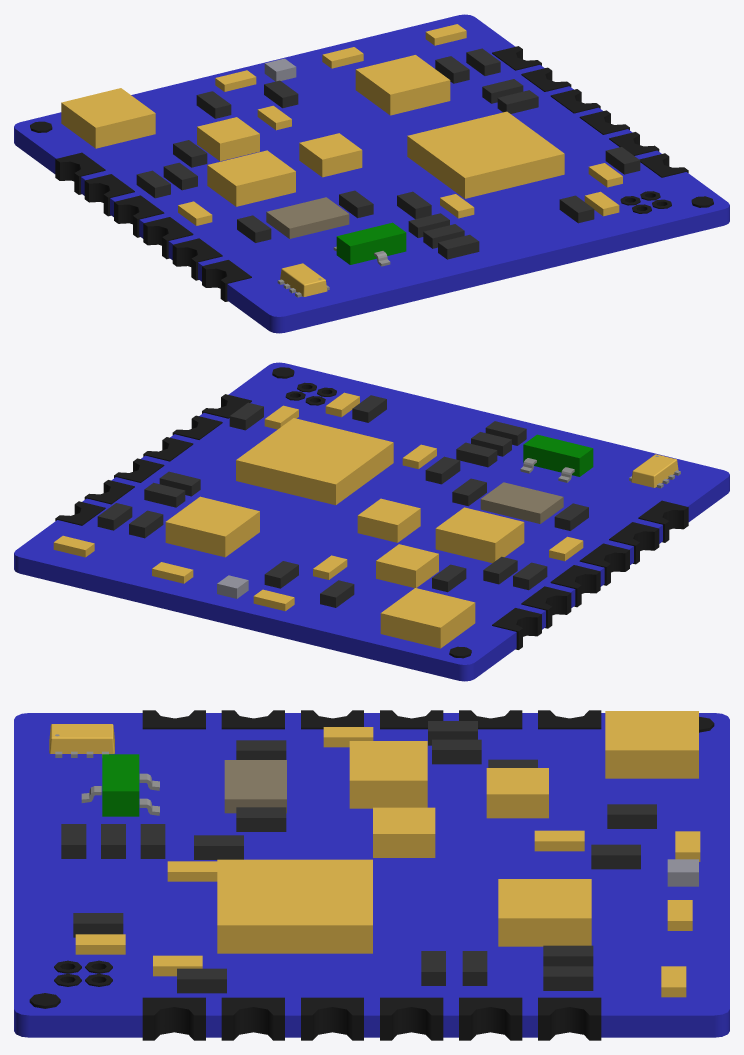
3 renders of one model, top to bottom at view 1: azimuth 30°, elevation 25°; view 2: azimuth 150°, elevation 25°; view 3: azimuth 270°, elevation 25°, orthographic. The views are drawn at different scales.
Visible parts, largest first — view 1: TSS-EM-3_0c; view 2: TSS-EM-3_0c; view 3: TSS-EM-3_0c.
Part boxes in pixels (<box>): TSS-EM-3_0c: <box>14,14,729,333</box>; TSS-EM-3_0c: <box>14,362,729,681</box>; TSS-EM-3_0c: <box>14,710,729,1040</box>.
Bounding box in the file's own units: 0.0232 × 0.00191 × 0.023.
